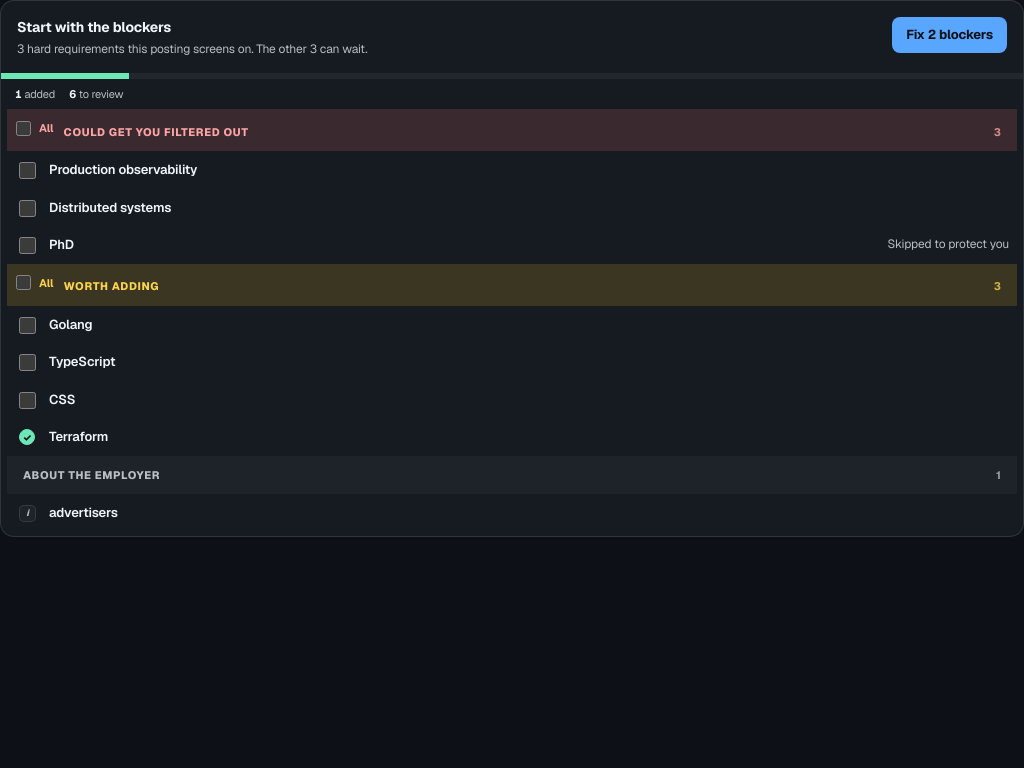
Test: select all per band › selects only its own band's selectable rows
Click the checkbox named "Select all in Could get you filtered out" at x=24, y=128, box x1=16 y1=121 x2=31 y2=136
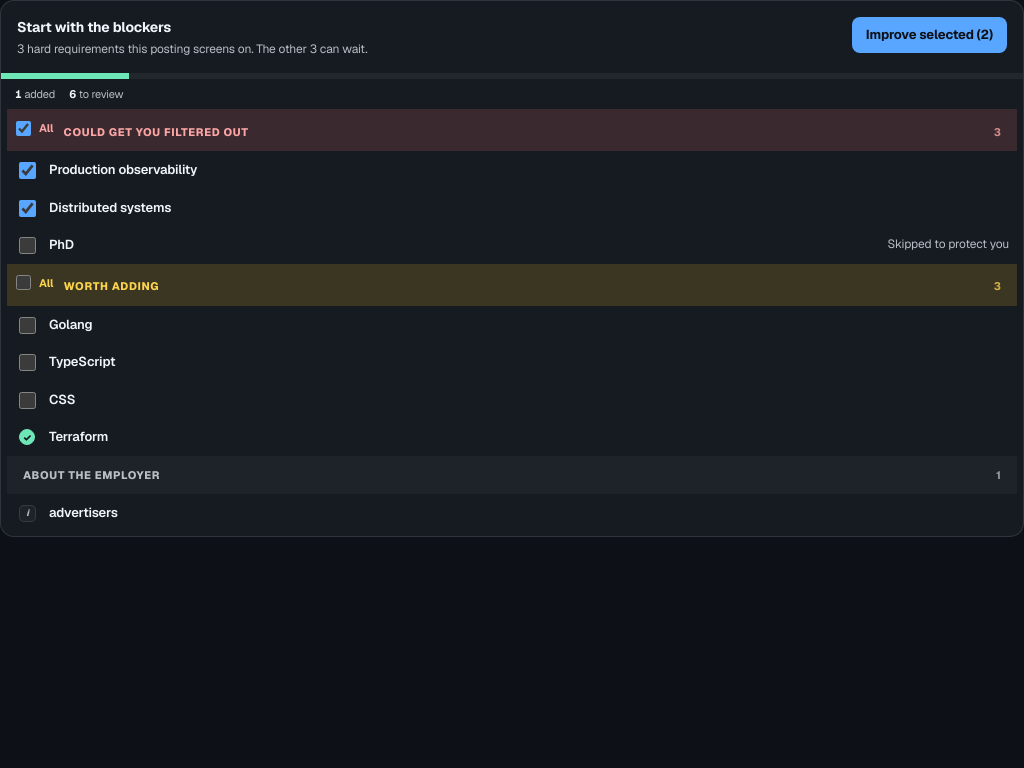
Expected: the checkbox named "Select PhD" is not checked, x1=19 y1=237 x2=36 y2=254
Result: the button "Improve selected (2)" is shown at x1=852 y1=17 x2=1007 y2=52
